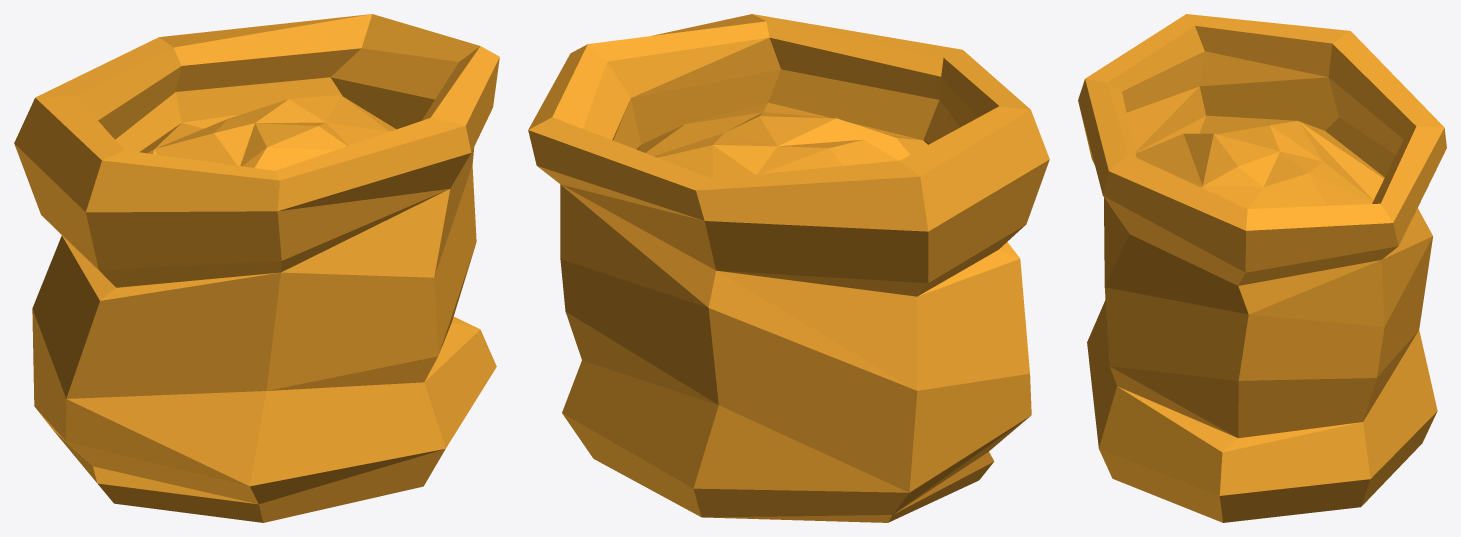
Rendered from SM_Bag_Small_Spices_B.fbx.
3 renders of one model, left to right at view 1: azimuth 30°, elevation 25°; view 2: azimuth 150°, elevation 25°; view 3: azimuth 270°, elevation 25°, orthographic. The views are drawn at different scales.
Visible parts, largest first — view 1: bag-small-spices-b; view 2: bag-small-spices-b; view 3: bag-small-spices-b.
Part boxes in pixels (left/top/right/bottom): bag-small-spices-b: left=14, top=14, right=499, bottom=522; bag-small-spices-b: left=528, top=14, right=1049, bottom=522; bag-small-spices-b: left=1078, top=14, right=1446, bottom=522.
Size of the model in its own units: 0.1867 by 0.1455 by 0.1439.
